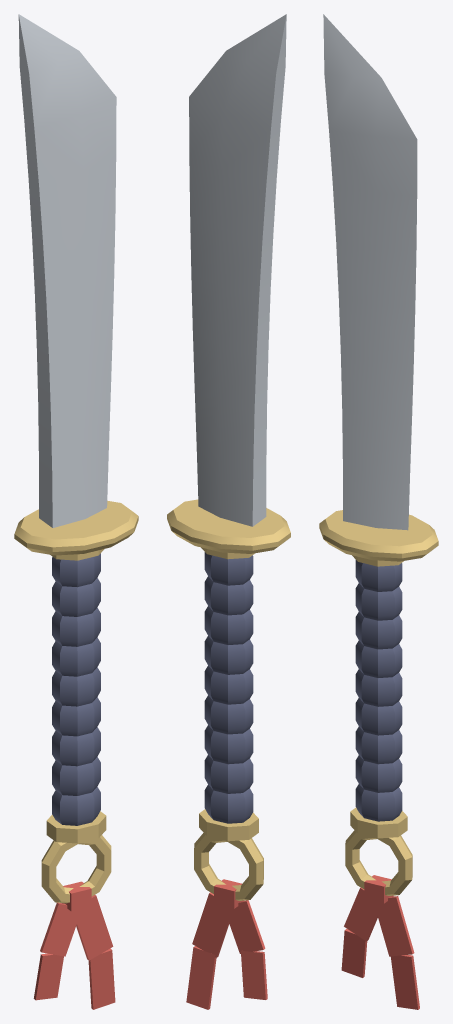
The model's file is Dadao.fbx.
The picture shows the model from 3 angles, left to right: view 1: azimuth 30°, elevation 25°; view 2: azimuth 150°, elevation 25°; view 3: azimuth 330°, elevation 25°; orthographic projection. The views are drawn at different scales.
Parts seen in each view (by area): view 1: DadaoBlade, DadaoGrip, DadaoFittings, DadaoRibbon; view 2: DadaoBlade, DadaoGrip, DadaoFittings, DadaoRibbon; view 3: DadaoBlade, DadaoGrip, DadaoFittings, DadaoRibbon.
Boxes of the visible parts, x1,y1,x2,y2 form: DadaoBlade: (18, 14, 116, 527); DadaoGrip: (52, 553, 100, 825); DadaoFittings: (14, 500, 138, 903); DadaoRibbon: (33, 881, 115, 1009); DadaoBlade: (189, 14, 286, 526); DadaoGrip: (204, 552, 253, 823); DadaoFittings: (167, 499, 290, 900); DadaoRibbon: (186, 879, 267, 1009); DadaoBlade: (323, 14, 417, 530); DadaoGrip: (355, 560, 402, 821); DadaoFittings: (319, 510, 438, 895); DadaoRibbon: (341, 875, 419, 1009).
Bounding box in the file's own units: 0.6684 × 5.71 × 0.4729.
